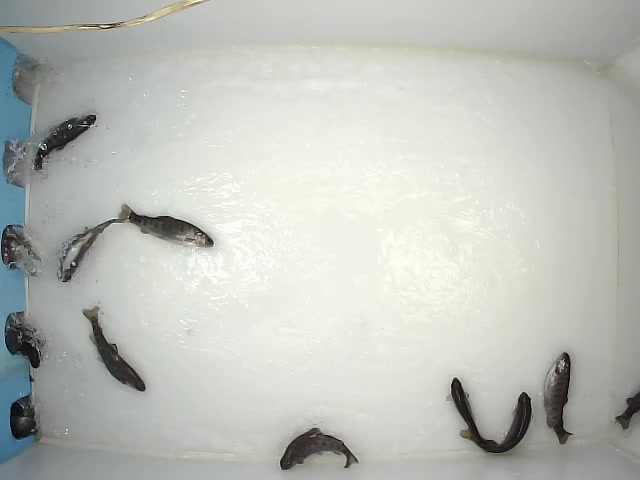fish: (81, 304, 147, 393), (460, 392, 533, 468), (56, 218, 127, 284), (117, 202, 214, 250), (444, 377, 499, 451), (32, 113, 98, 172), (279, 426, 360, 472), (543, 350, 577, 448)
